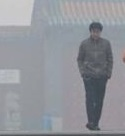person: (76, 21, 114, 131)
